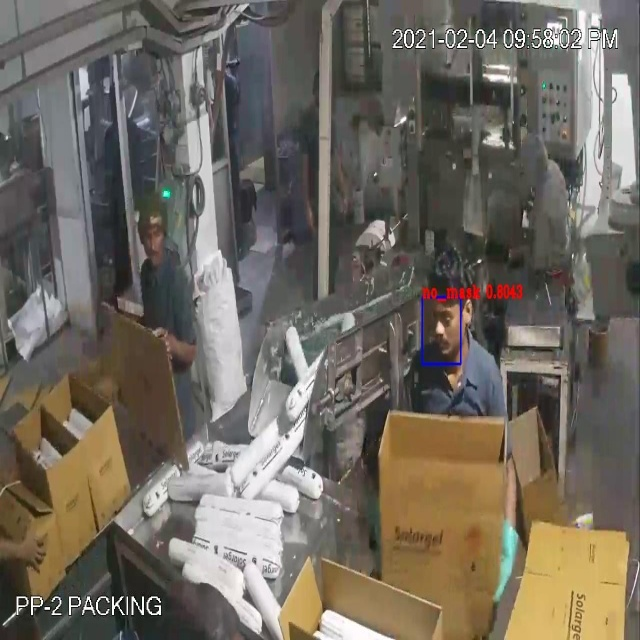Guantes: (488, 431, 528, 609)
Sin_guantes: (146, 316, 205, 378), (1, 518, 53, 582), (296, 136, 321, 239)
